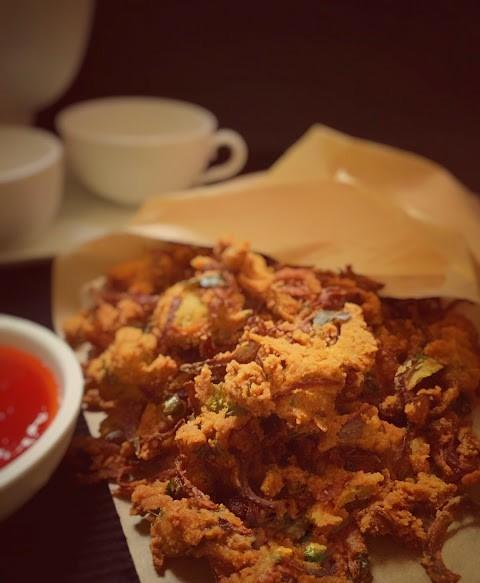OnionPakoda: (79, 211, 480, 578)
